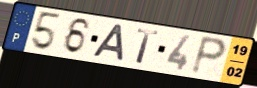4: (164, 34, 192, 72)
5: (28, 11, 64, 52)
6: (61, 17, 91, 56)
A: (91, 23, 126, 63)
P: (188, 34, 229, 77)
T: (134, 27, 161, 66)
